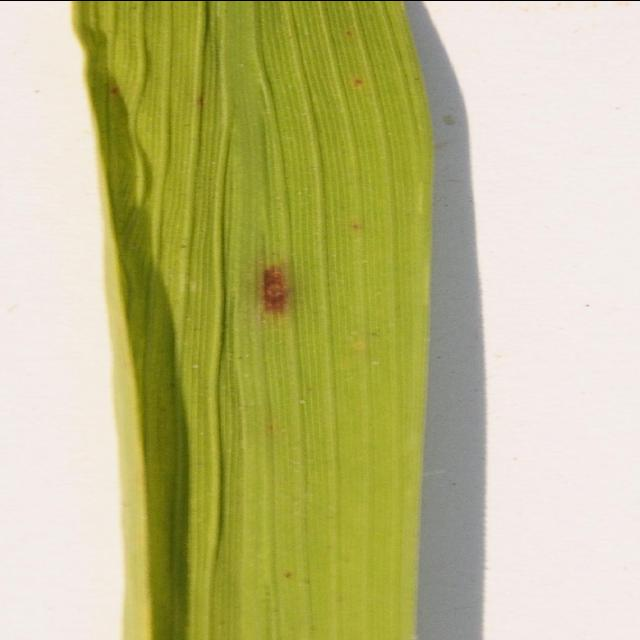Brown spot: (54, 0, 520, 640)
